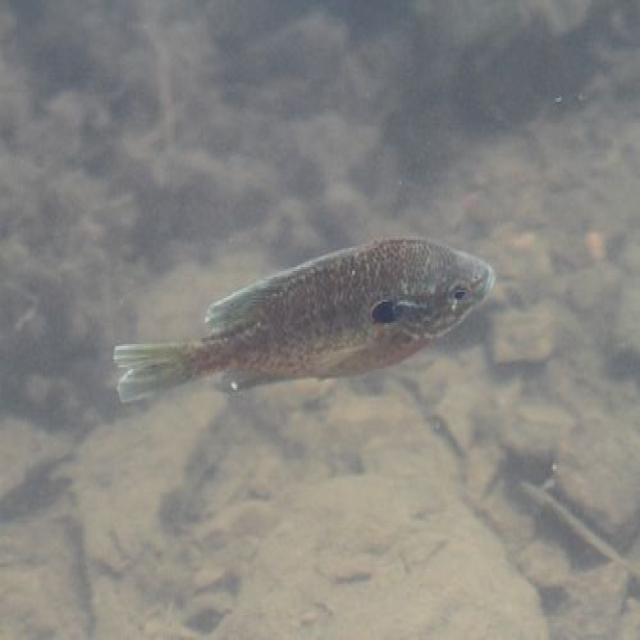Gunes Levregi: (111, 235, 507, 422)
